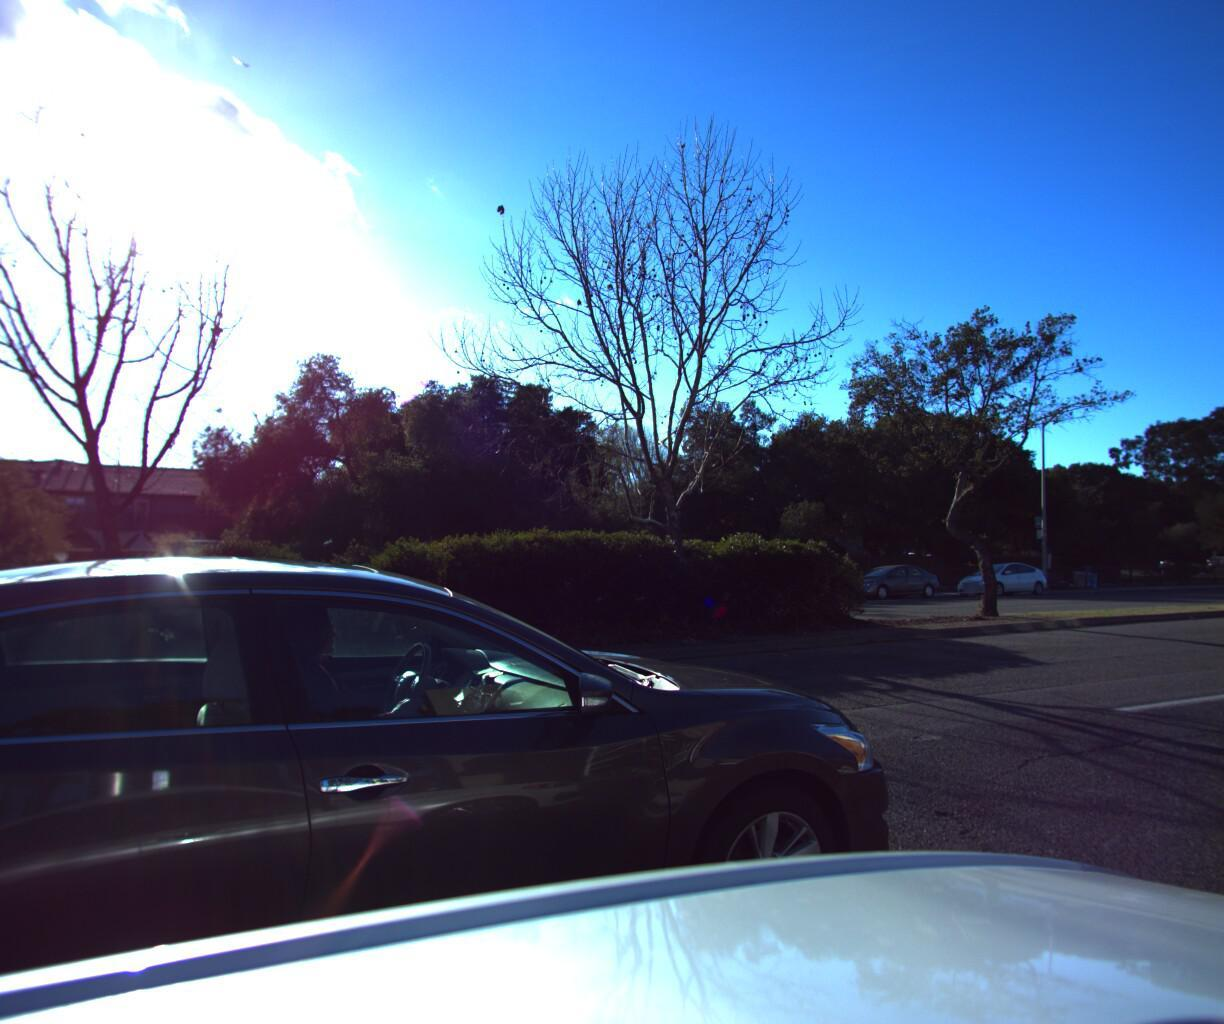car: (0, 557, 960, 1024), (50, 564, 245, 631), (830, 559, 945, 600), (946, 556, 1051, 595)
